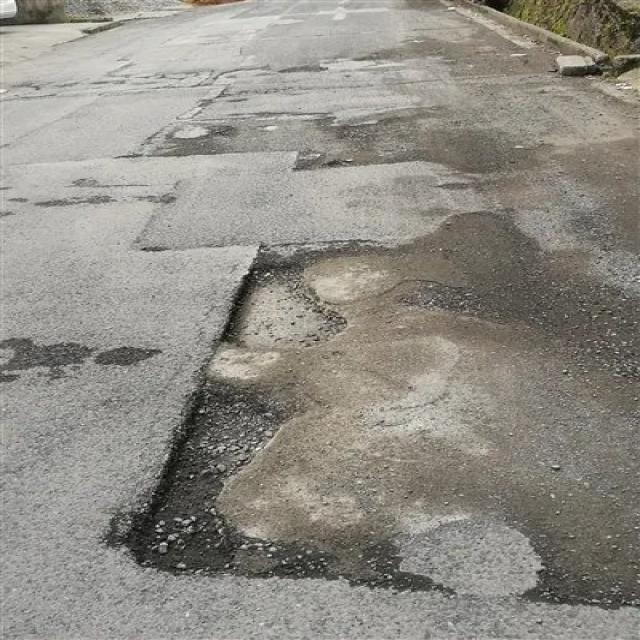Pothole: (139, 383, 523, 608), (235, 257, 347, 351)
